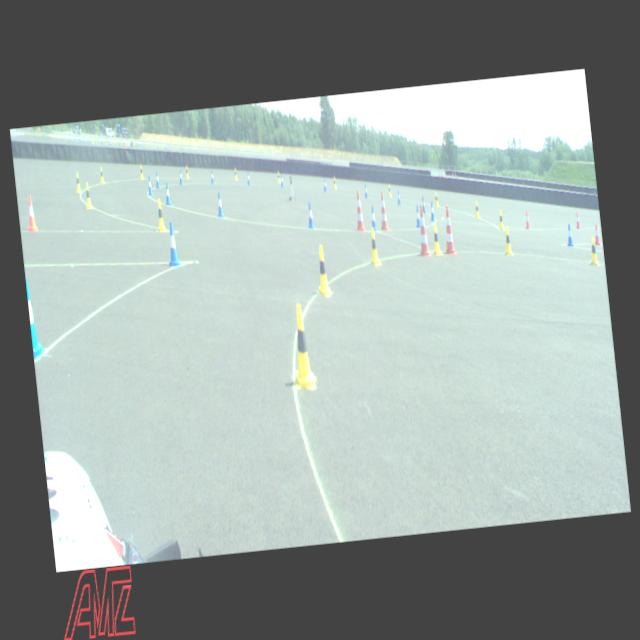blue_cone: (25, 275, 46, 359), (164, 222, 180, 266), (215, 190, 225, 218), (367, 204, 377, 230), (306, 201, 314, 229), (164, 182, 172, 206), (565, 222, 573, 246), (146, 174, 153, 195), (428, 201, 435, 221), (414, 206, 420, 227), (154, 170, 160, 188), (178, 169, 184, 186), (396, 189, 402, 205), (322, 178, 327, 192), (422, 195, 426, 212), (210, 169, 214, 183), (246, 170, 250, 184), (364, 185, 368, 198), (280, 174, 284, 186)
large_orange_cone: (413, 204, 431, 257), (439, 204, 457, 255), (376, 190, 390, 232), (353, 190, 366, 232)
orange_cone: (24, 195, 38, 231), (592, 222, 602, 246), (524, 210, 530, 229), (574, 212, 580, 228)
yellow_cone: (288, 302, 316, 391), (313, 244, 332, 297), (366, 227, 381, 266), (430, 222, 442, 255), (155, 198, 166, 231), (502, 226, 514, 256), (587, 236, 599, 266), (83, 181, 93, 208), (74, 170, 82, 192), (497, 210, 505, 230), (98, 166, 105, 183), (474, 200, 480, 218), (138, 163, 144, 180), (433, 192, 439, 206), (184, 165, 190, 178), (332, 176, 336, 189), (234, 167, 238, 180), (276, 170, 280, 183), (388, 184, 392, 196)
